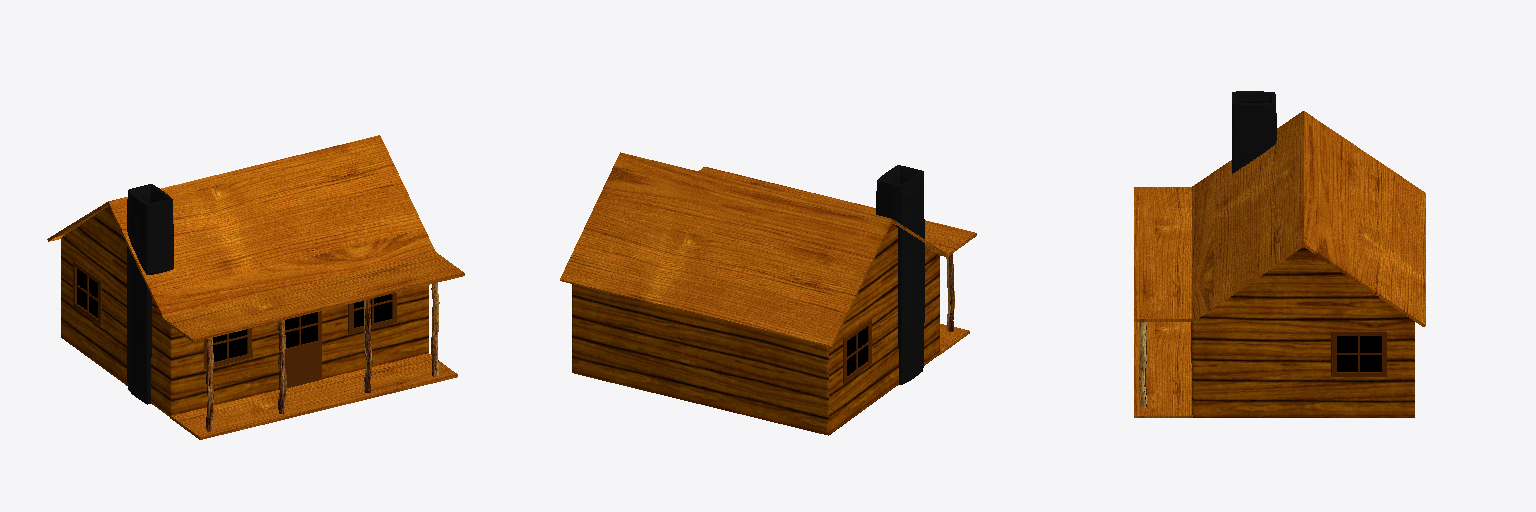
3 views of the same model, side by side, from view 1: azimuth 30°, elevation 25°; view 2: azimuth 150°, elevation 25°; view 3: azimuth 270°, elevation 25° (orthographic).
Bounding box in the file's own units: 8.87 × 6.22 × 8.23.
6 materials, 5 textured.